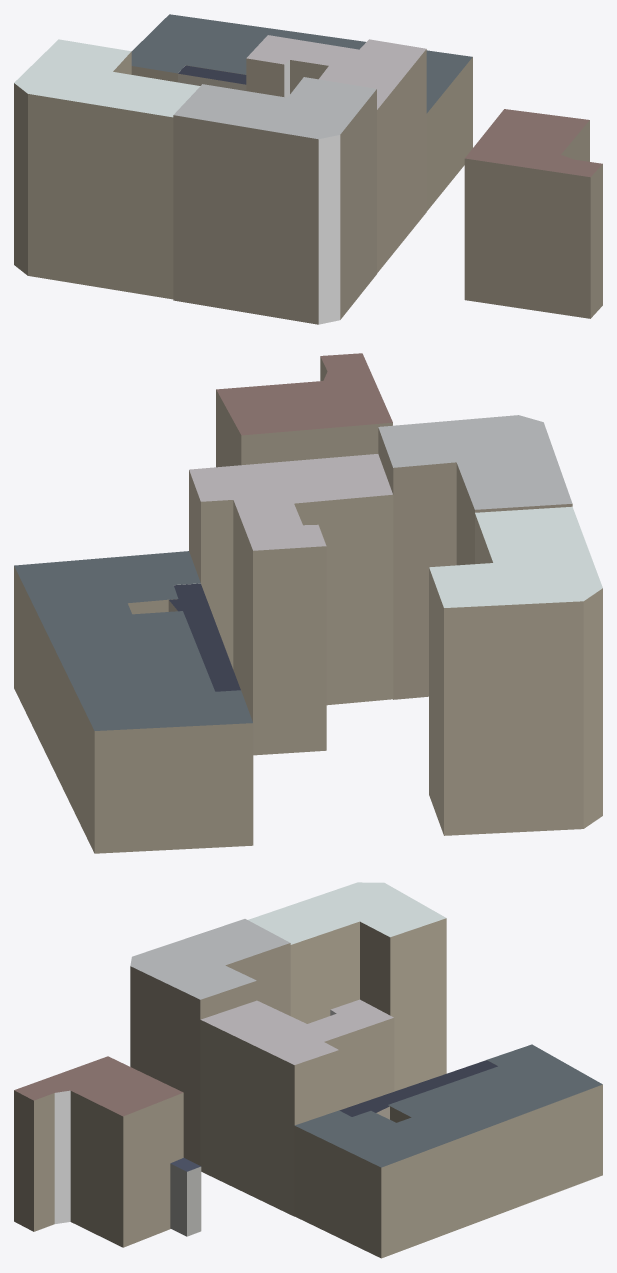
The picture shows the model from 3 angles, top to bottom: view 1: azimuth 30°, elevation 25°; view 2: azimuth 150°, elevation 25°; view 3: azimuth 270°, elevation 25°; orthographic projection. The views are drawn at different scales.
Visible parts, largest first — view 1: tuile; view 2: tuile; view 3: tuile.
Boxes of the visible parts, x1=… form: tuile: x1=14, y1=14, x2=602, y2=324; tuile: x1=14, y1=353, x2=602, y2=853; tuile: x1=14, y1=882, x2=602, y2=1258.
Bounding box in the file's own units: 61.51 × 23.8 × 73.9.
